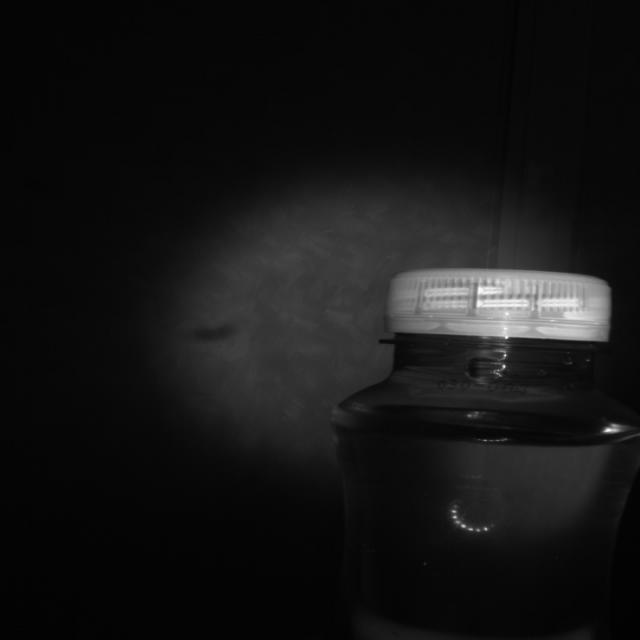Good: (391, 268, 614, 346)
